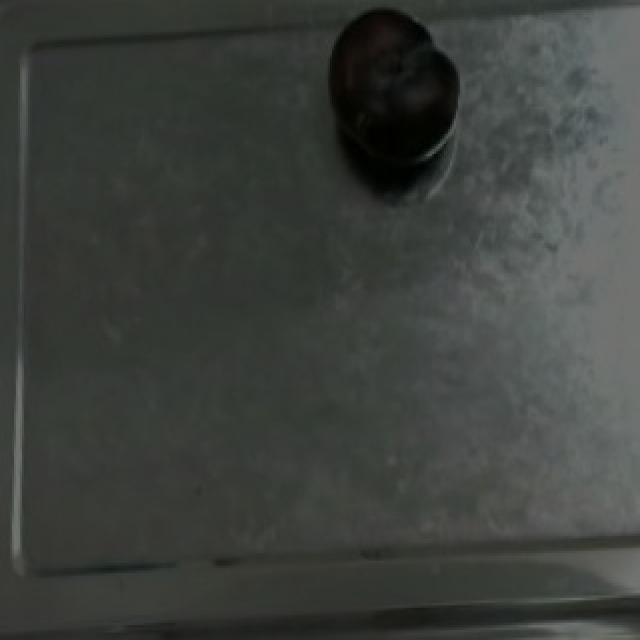Fruit: (320, 0, 466, 181)
